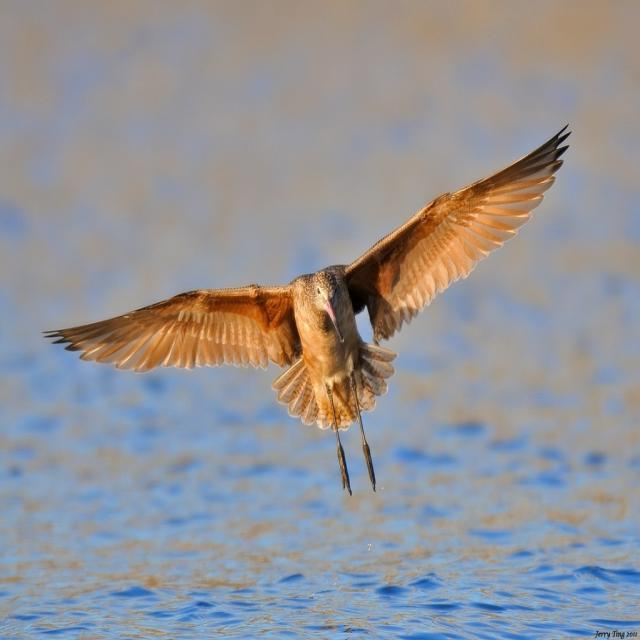bird: (38, 113, 592, 503)
